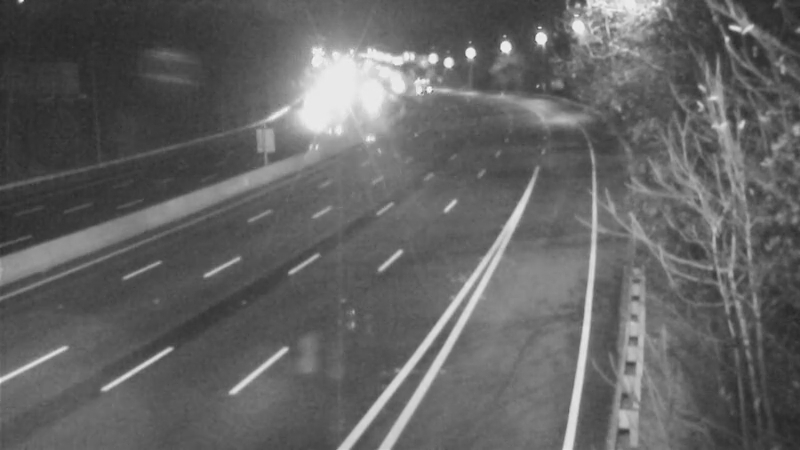vehicle: (371, 53, 421, 103), (371, 62, 421, 112), (398, 64, 448, 114), (286, 89, 336, 139), (347, 70, 397, 120)
